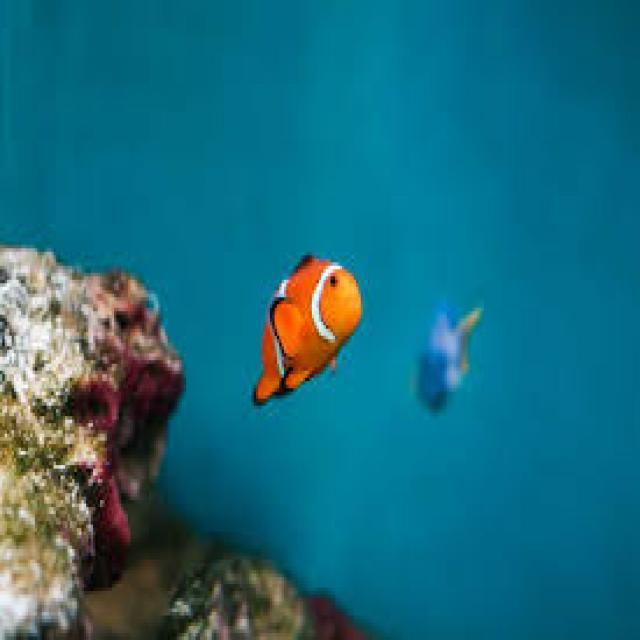ClownFish: (256, 243, 364, 406)
